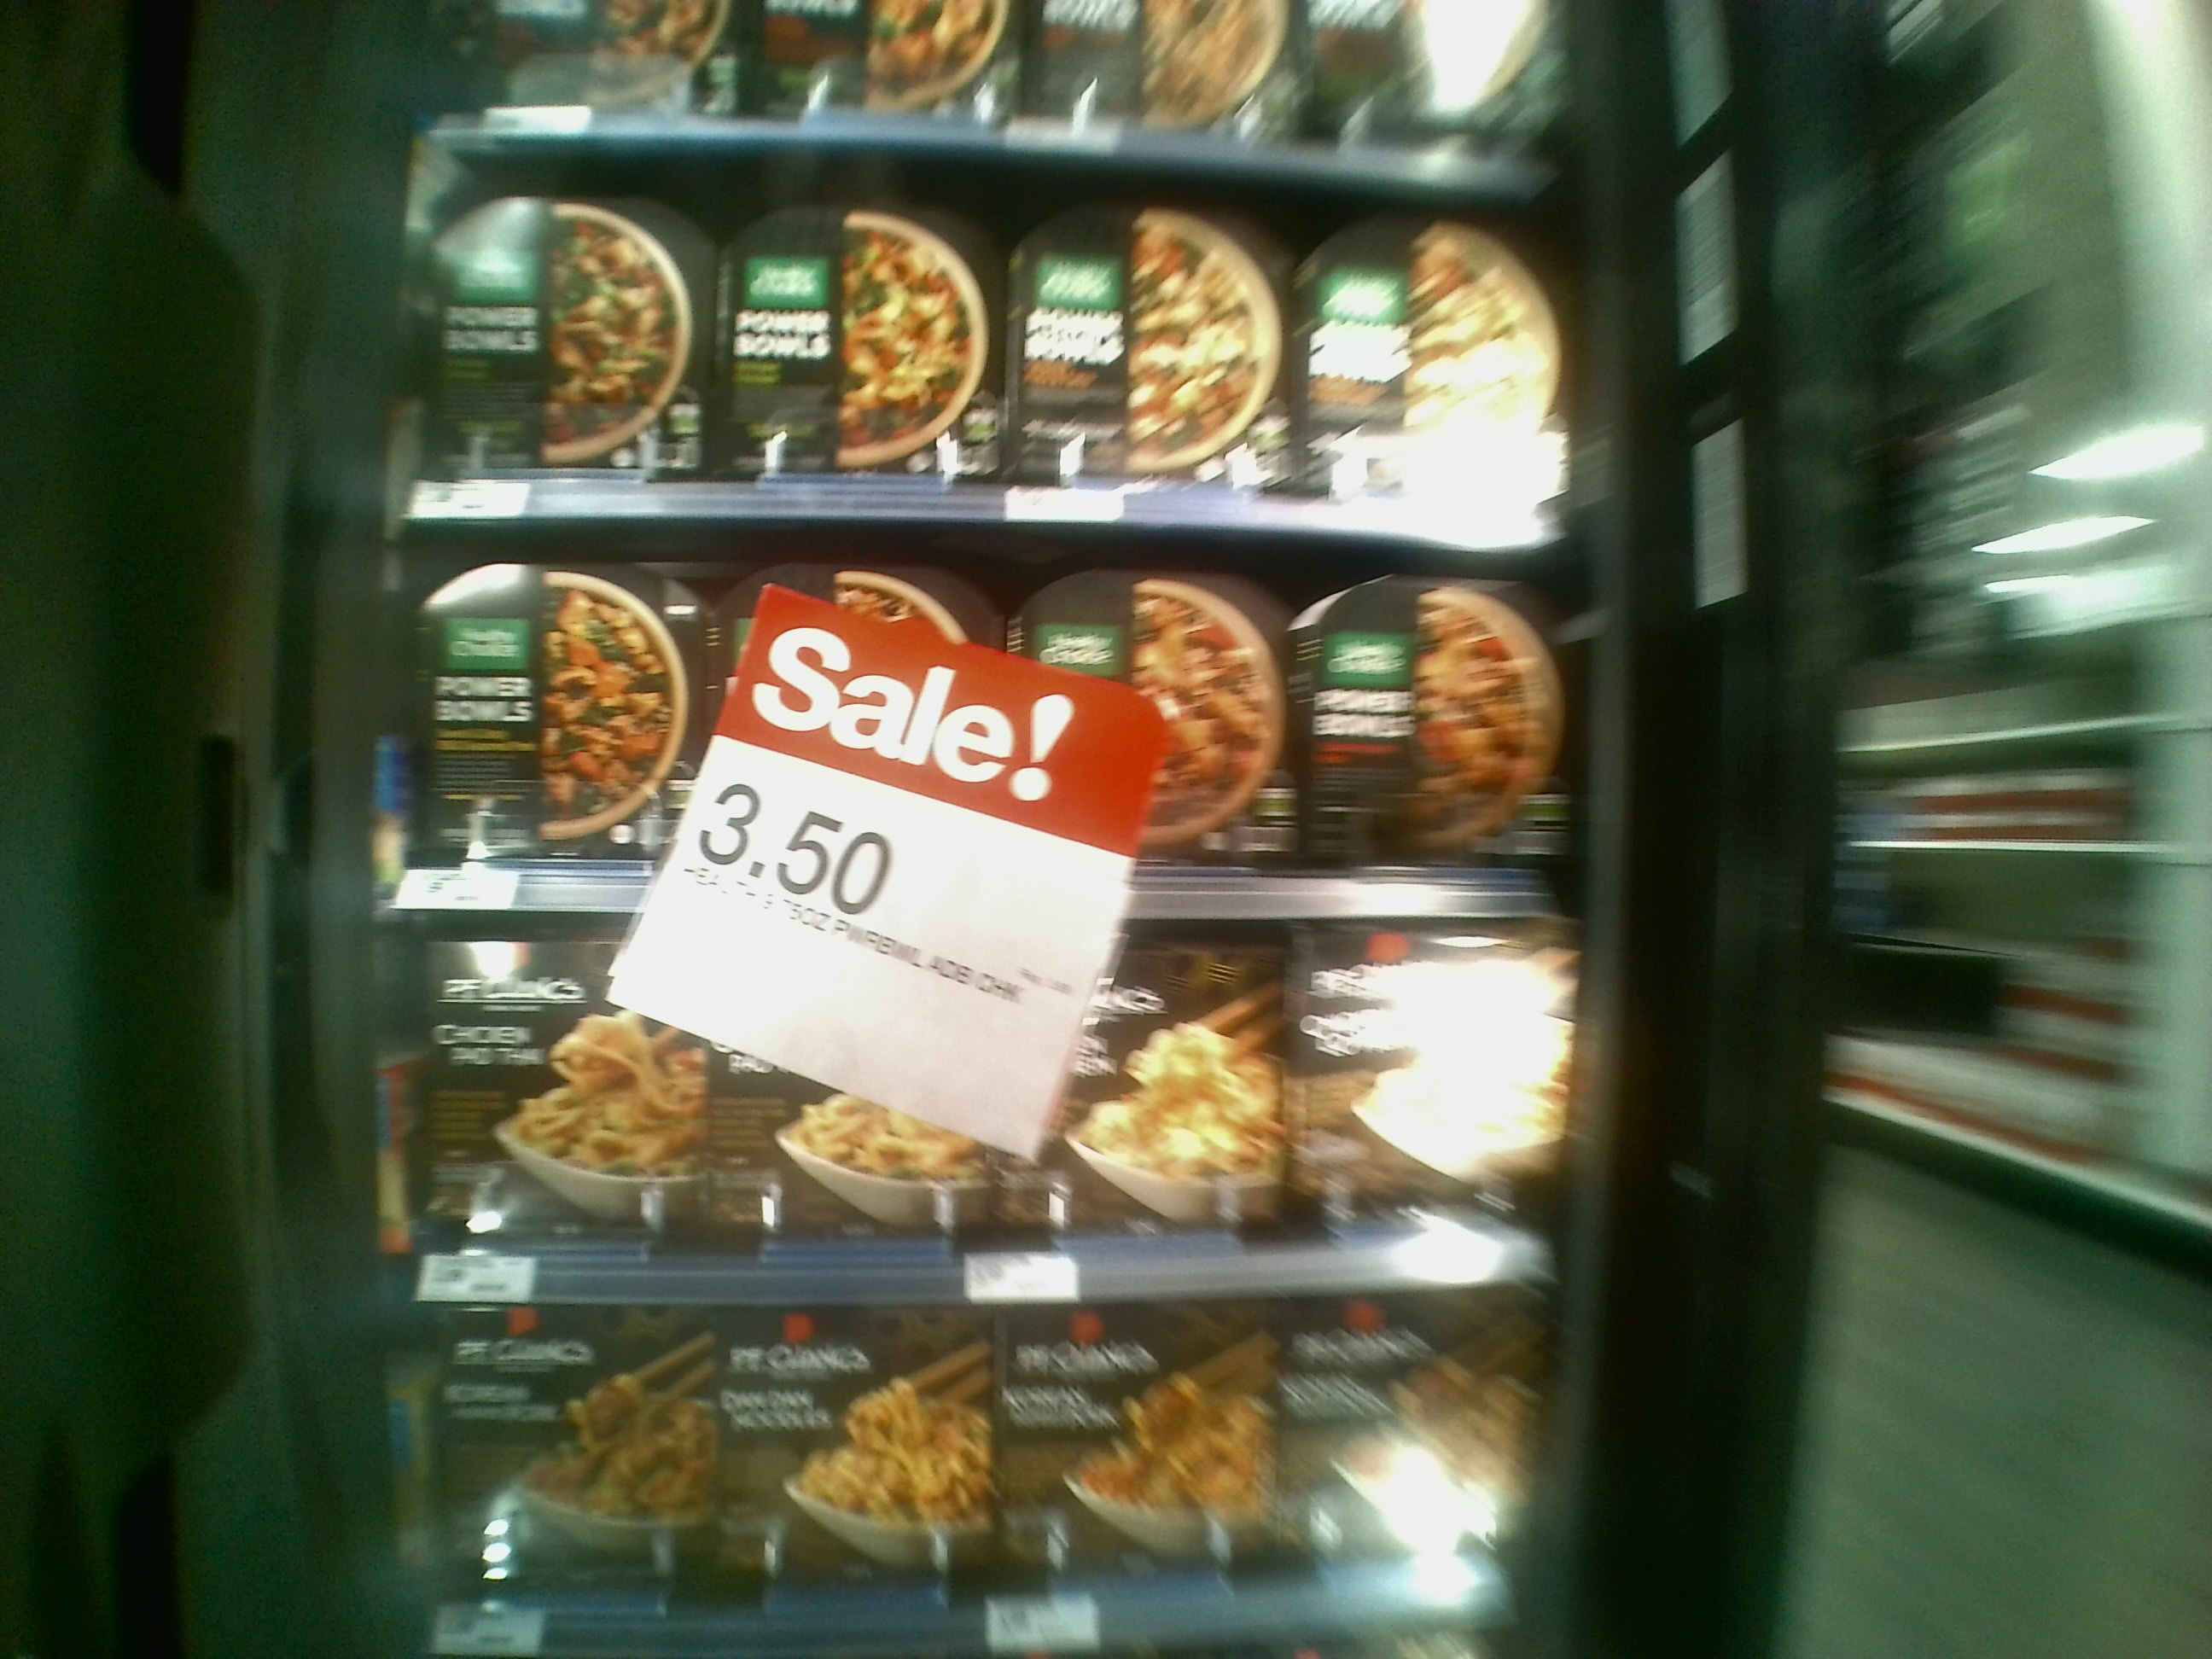shelf: (394, 516, 1564, 922), (395, 904, 1569, 1288)
